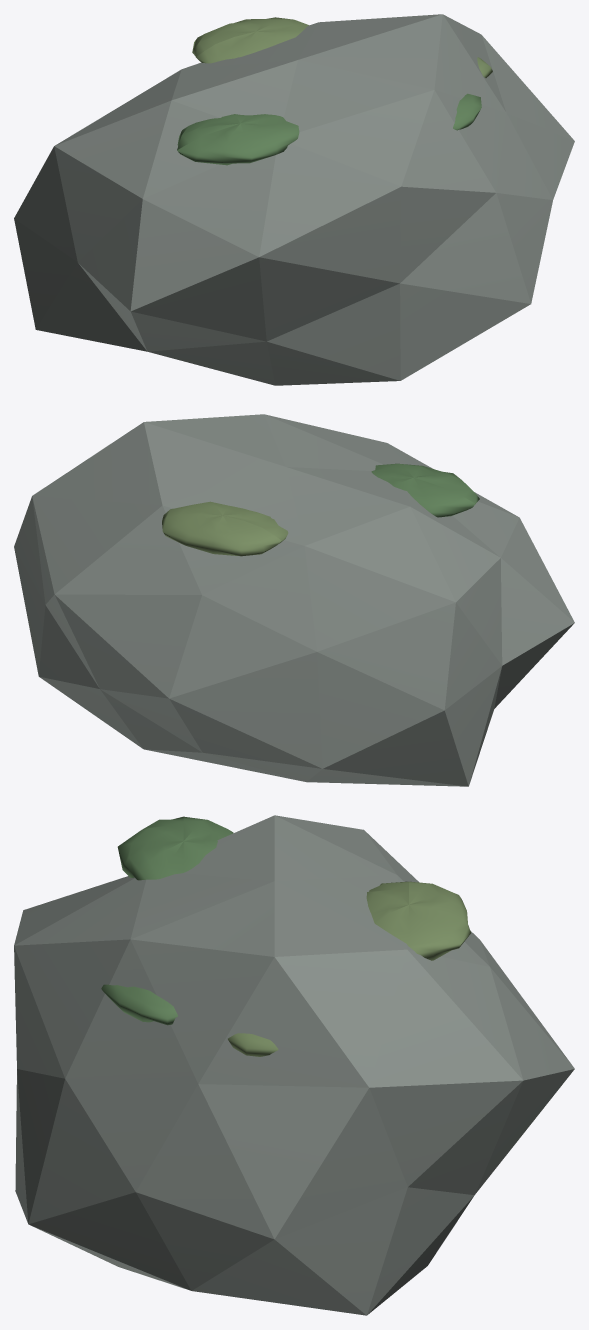
Rendered from roca.glb.
The picture shows the model from 3 angles, top to bottom: view 1: azimuth 30°, elevation 25°; view 2: azimuth 150°, elevation 25°; view 3: azimuth 270°, elevation 25°; orthographic projection. The views are drawn at different scales.
Visible parts, largest first — view 1: roca; view 2: roca; view 3: roca.
Part boxes in pixels (x1,y1,x2,y2): roca: [14, 14, 574, 385]; roca: [14, 414, 574, 786]; roca: [14, 815, 574, 1315].
Bounding box in the file's own units: 0.8784 × 0.4533 × 0.6658.
